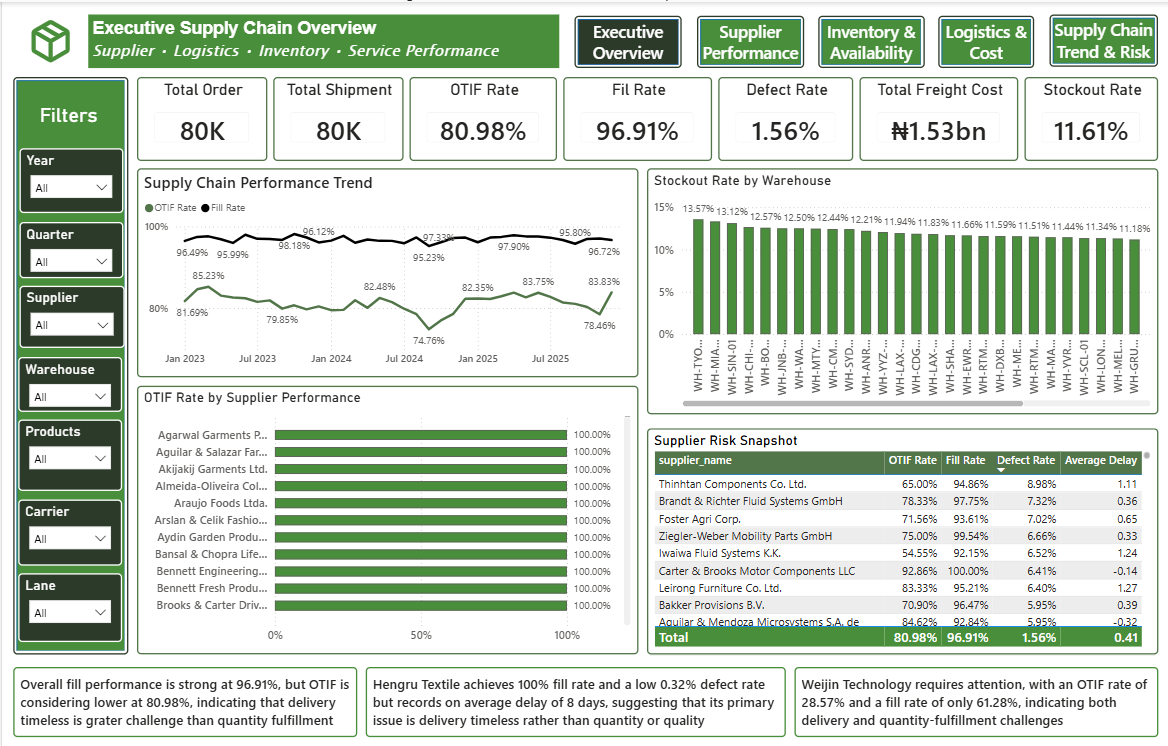

The dashboard page shown, as its layout file describes it:
{"tool":"powerbi","page":{"name":"Executive Overview","canvas":[1410,900],"ordinal":0},"visuals":[{"type":"cardVisual","title":"Total Order","fields":{"Data":["KPIs meansure.Total Order"]},"box":[163.3,90.7,157.2,101.3],"z":0},{"type":"cardVisual","title":"Total Shipment","fields":{"Data":["KPIs meansure.Total Shipments"]},"box":[328,90.7,157.2,101.3],"z":1000},{"type":"cardVisual","title":"OTIF Rate","fields":{"Data":["KPIs meansure.OTIF Rate"]},"box":[492.8,90.7,178.4,101.3],"z":2000},{"type":"cardVisual","title":"Fil Rate","fields":{"Data":["KPIs meansure.Fill Rate"]},"box":[678.7,90.7,179.9,101.3],"z":3000},{"type":"cardVisual","title":"Total Freight Cost","fields":{"Data":["KPIs meansure.Total Freight Cost"]},"box":[1036.9,90.3,192,101.3],"z":4000},{"type":"cardVisual","title":"Stockout Rate","fields":{"Data":["KPIs meansure.Stockout rate"]},"box":[1236.5,90.7,161.7,101.3],"z":5000},{"type":"cardVisual","title":"Defect Rate","fields":{"Data":["KPIs meansure.Defect Rate"]},"box":[866.1,90.3,163.3,101.3],"z":6000},{"type":"lineChart","title":"Supply Chain Performance Trend","fields":{"Y":["KPIs meansure.OTIF Rate","KPIs meansure.Fill Rate"],"Category":["tblDate.date.Variation.Date Hierarchy.Year","tblDate.date.Variation.Date Hierarchy.Month"]},"box":[163.3,201,606.1,252.4],"z":7000},{"type":"barChart","title":"OTIF Rate by Supplier Performance","fields":{"Y":["KPIs meansure.OTIF Rate"],"Category":["tblSuppliers.supplier_name"]},"box":[163.3,464.1,606.1,325],"z":8000},{"type":"columnChart","title":"Stockout Rate by Warehouse","fields":{"Category":["tblInventory_monthly.warehouse_code"],"Y":["KPIs meansure.Stockout rate"]},"box":[780,201,618.2,297.8],"z":9000},{"type":"tableEx","title":"Supplier Risk Snapshot","fields":{"Values":["tblSuppliers.supplier_name","KPIs meansure.OTIF Rate","KPIs meansure.Fill Rate","KPIs meansure.Defect Rate","KPIs meansure.Average Delay Days"]},"box":[780,515.4,618.2,273.6],"z":10000},{"type":"shape","box":[13.6,90.7,139.1,698.4],"z":11000},{"type":"slicer","title":"Year","fields":{"Values":["tblDate.year"]},"box":[21.2,176.9,125.5,78.6],"z":12000},{"type":"slicer","title":"Supplier","fields":{"Values":["tblSuppliers.supplier_name"]},"box":[21.2,343.1,127,75.6],"z":13000},{"type":"slicer","title":"Warehouse","fields":{"Values":["tblInventory_monthly.warehouse_code"]},"box":[19.7,428.5,125.5,66.5],"z":14000},{"type":"slicer","title":"Products","fields":{"Values":["tblProducts.product_category"]},"box":[19.7,504.9,125.5,86.2],"z":15000},{"type":"slicer","title":"Carrier","fields":{"Values":["tblShipments.carrier_id"]},"box":[19.7,600.9,125.5,80.1],"z":16000},{"type":"slicer","title":"Lane","fields":{"Values":["tblShipments.lane_id"]},"box":[19.7,690.8,125.5,83.1],"z":17000},{"type":"slicer","title":"Quarter","fields":{"Values":["tblDate.quarter"]},"box":[21.2,265.3,125.5,68],"z":18000},{"type":"textbox","box":[104.3,15.1,569.9,65],"z":19000},{"type":"shape","box":[692.3,16.6,130,63.5],"z":20000},{"type":"shape","box":[839.7,16.6,130,63.5],"z":21000},{"type":"shape","box":[987.1,16.6,128.5,63.5],"z":22000},{"type":"shape","box":[1132.9,16.6,116.4,63.5],"z":23000},{"type":"shape","box":[1266.7,15.1,131.5,63.5],"z":24000},{"type":"shape","box":[21.2,105.8,123.9,60.5],"z":25000},{"type":"textbox","box":[13.6,804.2,415.7,84.6],"z":26000},{"type":"textbox","box":[958.3,804.2,439.9,84.6],"z":27000},{"type":"textbox","box":[439.9,804.2,507.9,84.6],"z":28000},{"type":"image","box":[13.6,16.6,90.7,62],"z":29000}]}

Visuals, with their boxes in screenshot pixels (x1, y1, x2, y2), scaled from the page's 1410x900 canvas onto the 1168x746 screenshot:
"Total Order" cardVisual: <region>135, 75, 265, 159</region>
"Total Shipment" cardVisual: <region>272, 75, 402, 159</region>
"OTIF Rate" cardVisual: <region>408, 75, 556, 159</region>
"Fil Rate" cardVisual: <region>562, 75, 711, 159</region>
"Total Freight Cost" cardVisual: <region>859, 75, 1018, 159</region>
"Stockout Rate" cardVisual: <region>1024, 75, 1158, 159</region>
"Defect Rate" cardVisual: <region>717, 75, 853, 159</region>
"Supply Chain Performance Trend" lineChart: <region>135, 167, 637, 376</region>
"OTIF Rate by Supplier Performance" barChart: <region>135, 385, 637, 654</region>
"Stockout Rate by Warehouse" columnChart: <region>646, 167, 1158, 413</region>
"Supplier Risk Snapshot" tableEx: <region>646, 427, 1158, 654</region>
shape: <region>11, 75, 126, 654</region>
"Year" slicer: <region>18, 147, 122, 212</region>
"Supplier" slicer: <region>18, 284, 123, 347</region>
"Warehouse" slicer: <region>16, 355, 120, 410</region>
"Products" slicer: <region>16, 419, 120, 490</region>
"Carrier" slicer: <region>16, 498, 120, 564</region>
"Lane" slicer: <region>16, 573, 120, 641</region>
"Quarter" slicer: <region>18, 220, 122, 276</region>
textbox: <region>86, 13, 558, 66</region>
shape: <region>573, 14, 681, 66</region>
shape: <region>696, 14, 803, 66</region>
shape: <region>818, 14, 924, 66</region>
shape: <region>938, 14, 1035, 66</region>
shape: <region>1049, 13, 1158, 65</region>
shape: <region>18, 88, 120, 138</region>
textbox: <region>11, 667, 356, 737</region>
textbox: <region>794, 667, 1158, 737</region>
textbox: <region>364, 667, 785, 737</region>
image: <region>11, 14, 86, 65</region>
